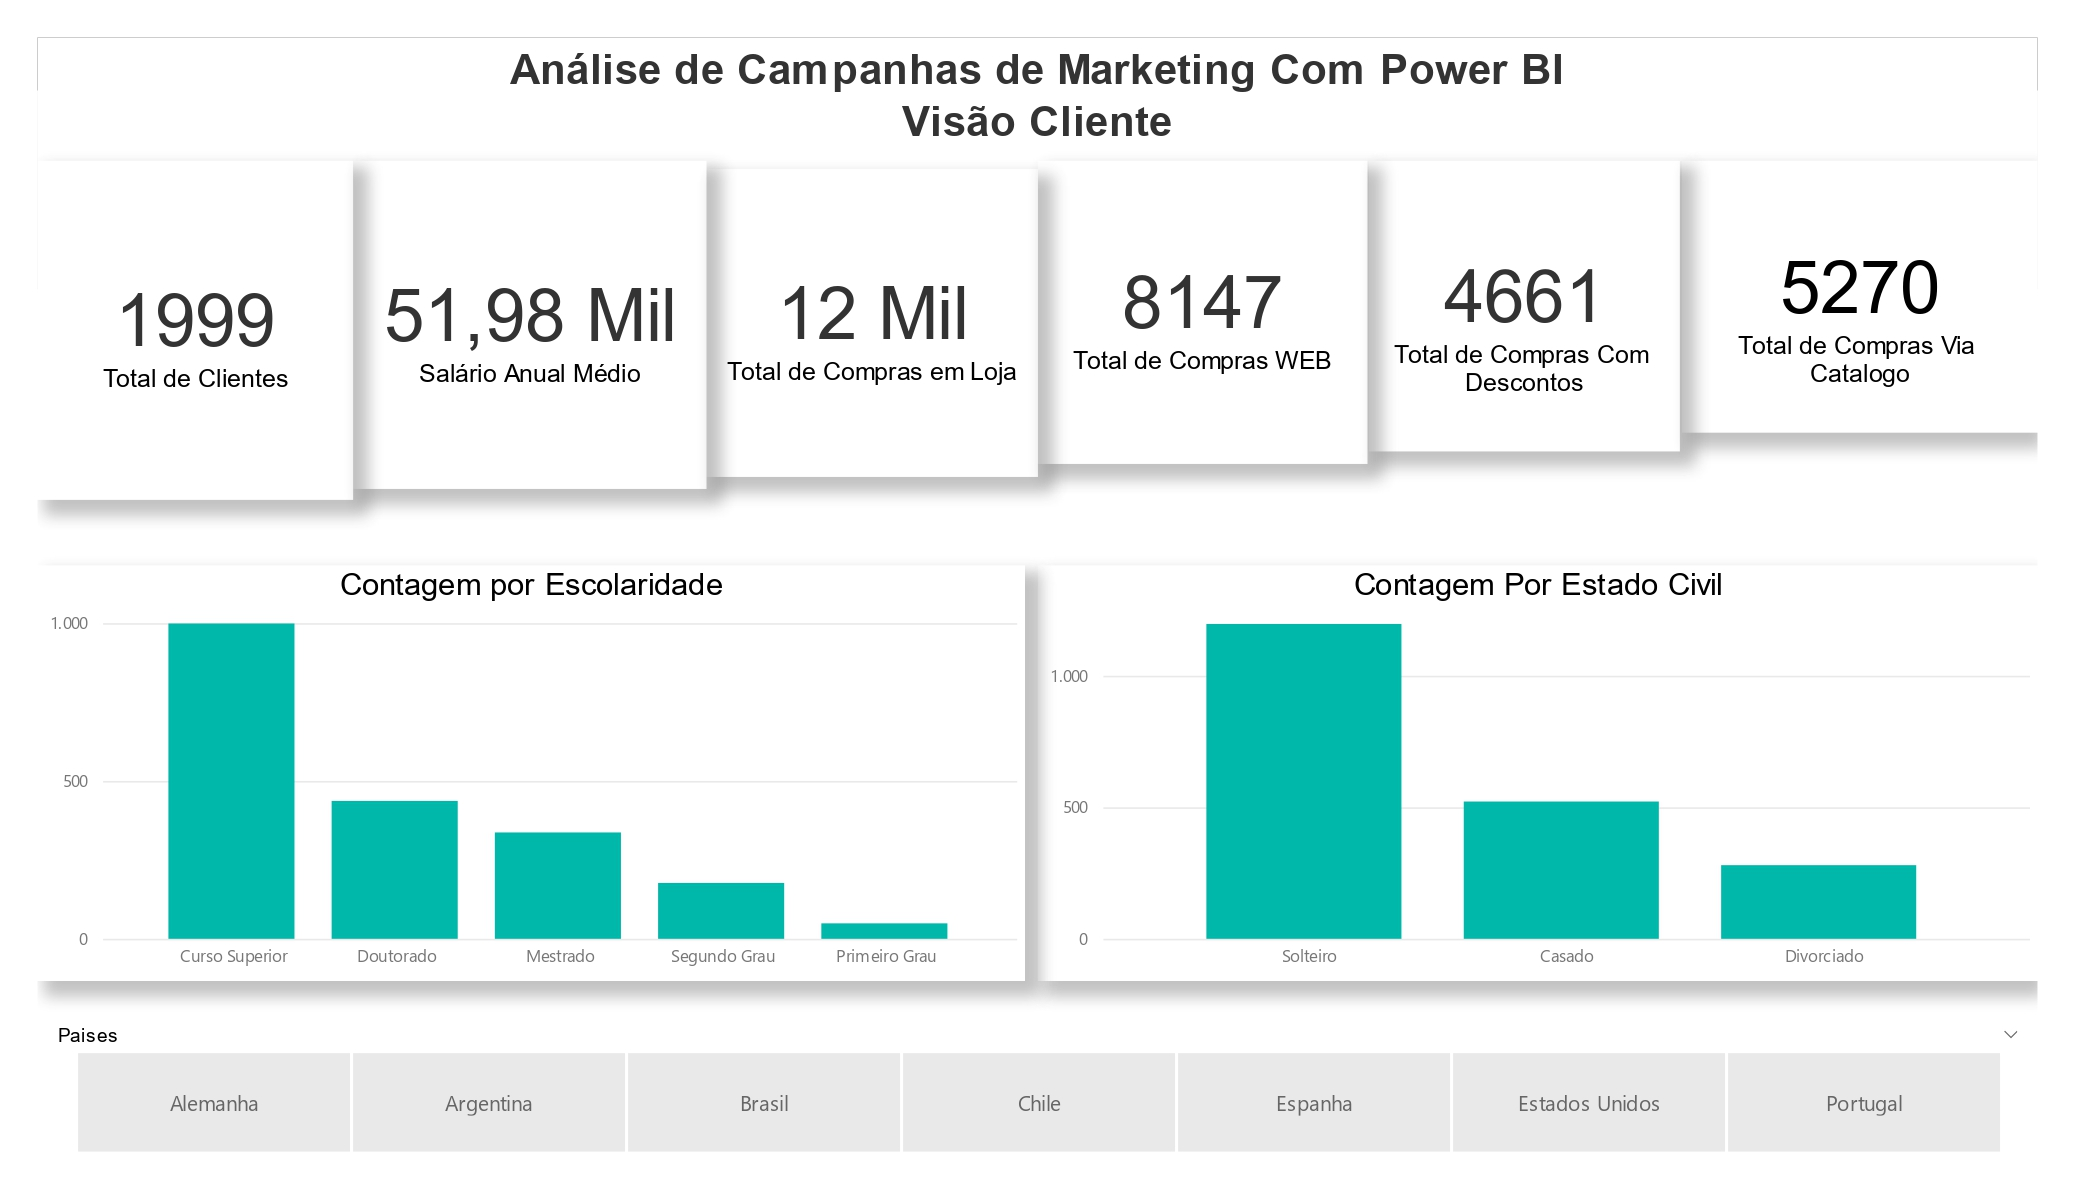

Layout of this report page (visuals, bound fields, positions):
{"tool":"powerbi","page":{"name":"Visão Cliente","canvas":[1280,720],"ordinal":0},"visuals":[{"type":"card","fields":{"Values":["CountNonNull(Dados_Marketing.ID)"]},"box":[0,78.9,202.2,217.2],"z":0},{"type":"card","fields":{"Values":["Avg(Dados_Marketing.Salario Anual)"]},"box":[201.9,78.8,226.3,209.6],"z":1000},{"type":"card","fields":{"Values":["Sum(Dados_Marketing.Numero de Compras na Loja)"]},"box":[428.3,84.2,211.9,196.8],"z":2000},{"type":"card","fields":{"Values":["Sum(Dados_Marketing.Numero de Compras na Web)"]},"box":[640.5,78.5,211.3,194.5],"z":3000},{"type":"card","fields":{"Values":["Sum(Dados_Marketing.Numero de Compras com Desconto)"]},"box":[852.1,78.9,198.6,186.2],"z":4000},{"type":"card","fields":{"Values":["Sum(Dados_Marketing.Numero de Compras via Catalogo)"]},"box":[1052.5,78.9,227.9,173.8],"z":5000},{"type":"textbox","box":[0,0,1280,85.4],"z":6000},{"type":"columnChart","title":"Contagem por Escolaridade","fields":{"Category":["Dados_Marketing.Escolaridade"],"Y":["CountNonNull(Dados_Marketing.ID)"]},"box":[0,337.8,632.2,266],"z":7000},{"type":"columnChart","title":"Contagem Por Estado Civil","fields":{"Category":["Dados_Marketing.Estado Civil"],"Y":["CountNonNull(Dados_Marketing.ID)"]},"box":[640.2,337.8,640.2,266],"z":8000},{"type":"slicer","fields":{"Values":["Dados_Marketing.Pais"]},"box":[0,626,1280.4,94],"z":9000}]}

Visuals, with their boxes on the page's 1280x720 design canvas (x1, y1, x2, y2). These are canvas units, not pixel positions in the 2075x1200 screenshot, which may show the page scaled, cropped or inside an application window:
card - CountNonNull(Dados_Marketing.ID): bbox(0, 79, 202, 296)
card - Avg(Dados_Marketing.Salario Anual): bbox(202, 79, 428, 288)
card - Sum(Dados_Marketing.Numero de Compras na Loja): bbox(428, 84, 640, 281)
card - Sum(Dados_Marketing.Numero de Compras na Web): bbox(640, 78, 852, 273)
card - Sum(Dados_Marketing.Numero de Compras com Desconto): bbox(852, 79, 1051, 265)
card - Sum(Dados_Marketing.Numero de Compras via Catalogo): bbox(1052, 79, 1280, 253)
textbox: bbox(0, 0, 1280, 85)
"Contagem por Escolaridade" columnChart: bbox(0, 338, 632, 604)
"Contagem Por Estado Civil" columnChart: bbox(640, 338, 1280, 604)
slicer - Dados_Marketing.Pais: bbox(0, 626, 1280, 720)
